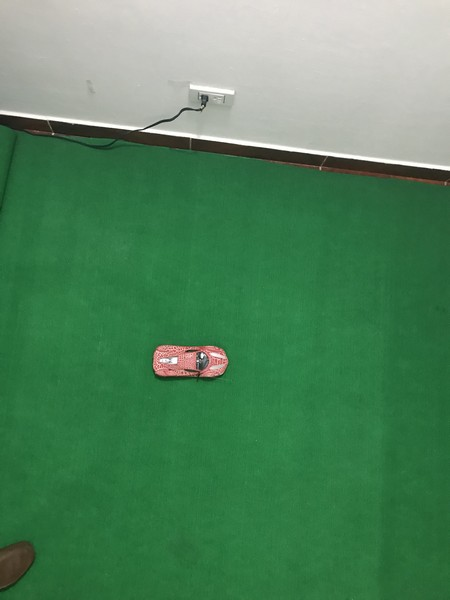RC: (148, 342, 233, 382)
